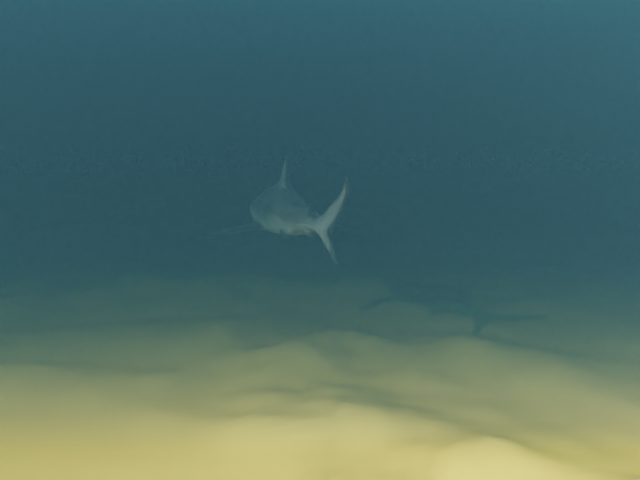Carribean Shark.001: (203, 155, 361, 264)
